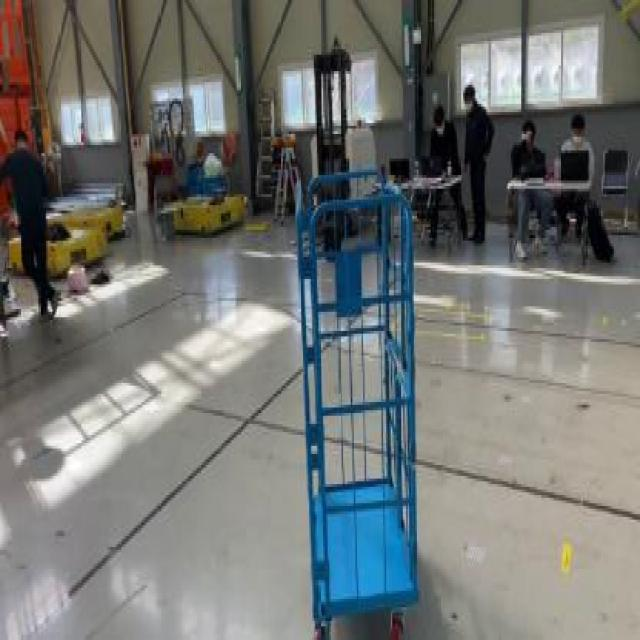cart: (285, 167, 423, 637)
person: (6, 126, 57, 342), (503, 104, 552, 271), (557, 112, 594, 268), (423, 101, 460, 257), (459, 79, 486, 252)
robot: (297, 38, 377, 246)
